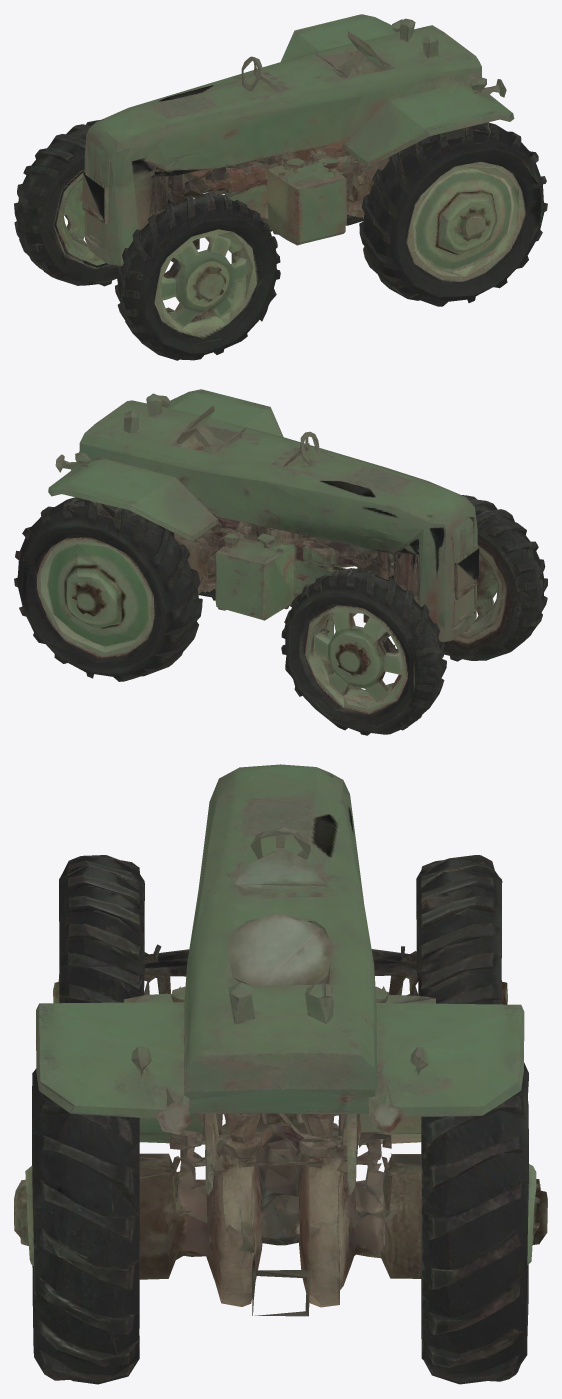
Rendered from tractor.glb.
The picture shows the model from 3 angles, top to bottom: view 1: azimuth 30°, elevation 25°; view 2: azimuth 150°, elevation 25°; view 3: azimuth 270°, elevation 25°; orthographic projection. The views are drawn at different scales.
Size of the model in its own units: 1.9 by 1.02 by 1.2.
1 material, 1 textured.
